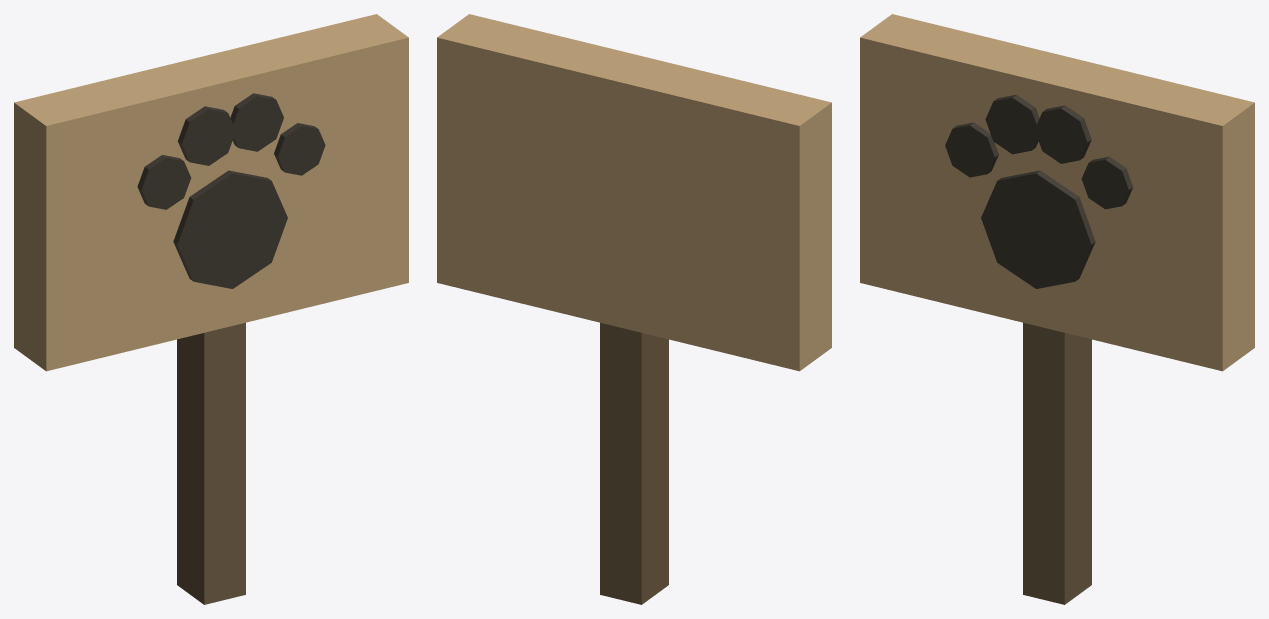
The model's file is ZO_PawSign.glb.
3 views of the same model, side by side, from view 1: azimuth 30°, elevation 25°; view 2: azimuth 150°, elevation 25°; view 3: azimuth 330°, elevation 25° (orthographic).
Visible parts, largest first — view 1: ZO_PawSign; view 2: ZO_PawSign; view 3: ZO_PawSign.
Boxes of the visible parts, bbox=[...] form: ZO_PawSign: bbox=[14, 14, 408, 604]; ZO_PawSign: bbox=[437, 14, 831, 604]; ZO_PawSign: bbox=[860, 14, 1254, 604].
Size of the model in its own units: 6.5 by 8.9 by 1.16.
Materials: 1 (1 with a texture image).
